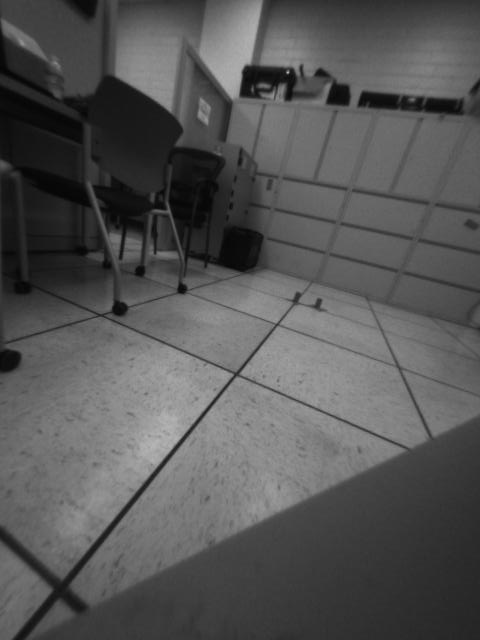X: (283, 291, 304, 308), (308, 298, 328, 313)
